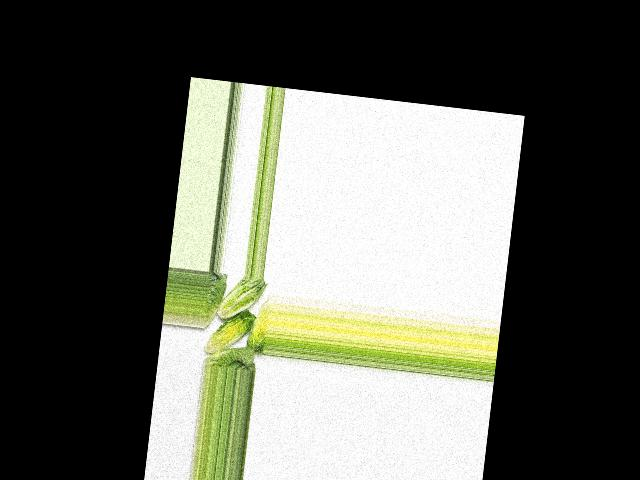lettuce: (204, 340, 258, 372)
